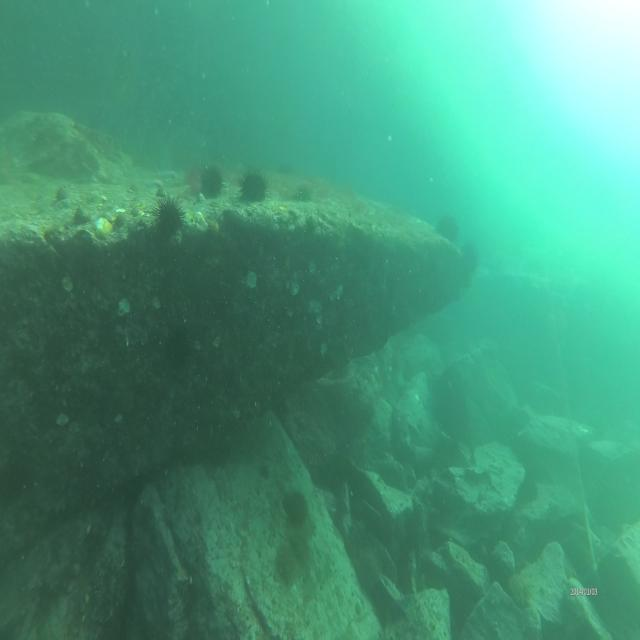echinus: (146, 195, 186, 248), (274, 536, 308, 588), (162, 317, 192, 372), (238, 168, 268, 218), (283, 489, 311, 531), (434, 207, 459, 250), (515, 474, 539, 508), (200, 164, 224, 198), (460, 241, 481, 278)
starfish: (94, 215, 112, 242)
